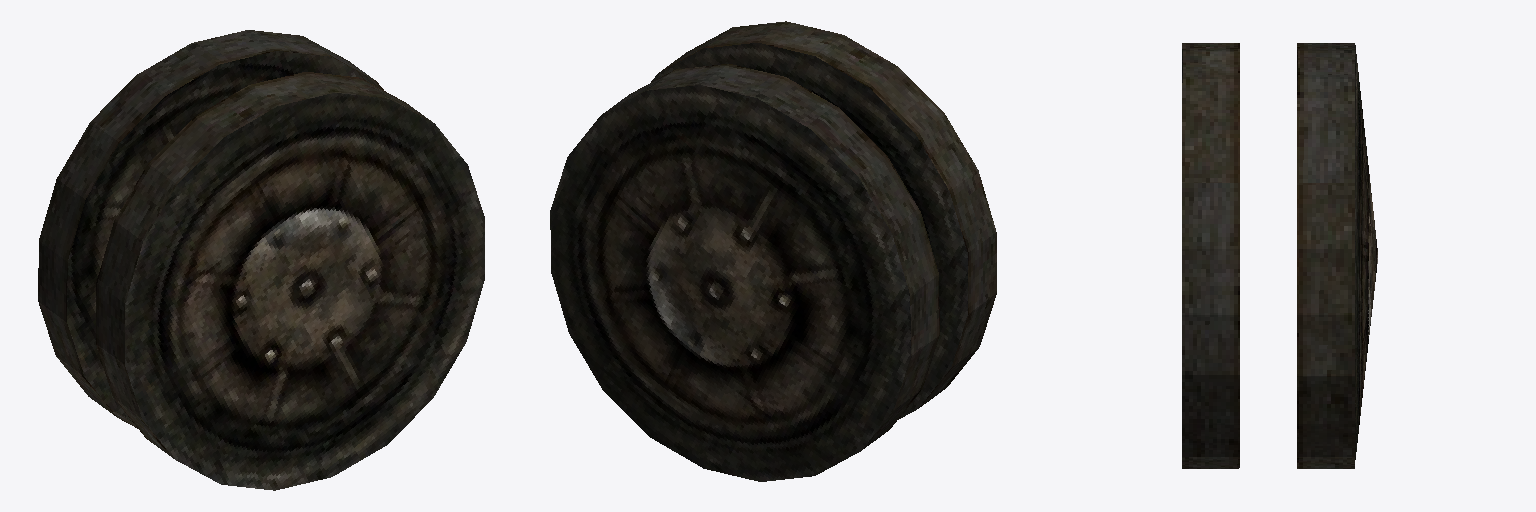
The picture shows the model from 3 angles: view 1: azimuth 30°, elevation 25°; view 2: azimuth 150°, elevation 25°; view 3: azimuth 270°, elevation 25°; orthographic projection.
Parts seen in each view (by area): view 1: rw_b_DrawCall_8_DrawCall_8.004; view 2: rw_b_DrawCall_8_DrawCall_8.004; view 3: rw_b_DrawCall_8_DrawCall_8.004.
Part boxes in pixels (left/top/right/bottom): rw_b_DrawCall_8_DrawCall_8.004: left=38, top=30, right=484, bottom=490; rw_b_DrawCall_8_DrawCall_8.004: left=550, top=21, right=996, bottom=481; rw_b_DrawCall_8_DrawCall_8.004: left=1182, top=43, right=1377, bottom=468.
Size of the model in its own units: 1 by 1.02 by 0.473.
Materials: 1 (1 with a texture image).